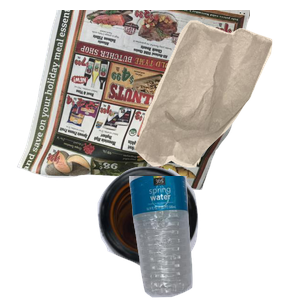glass: (95, 164, 286, 300)
paper: (14, 10, 254, 190)
plastic: (127, 176, 300, 300)
trash: (132, 17, 300, 177)
